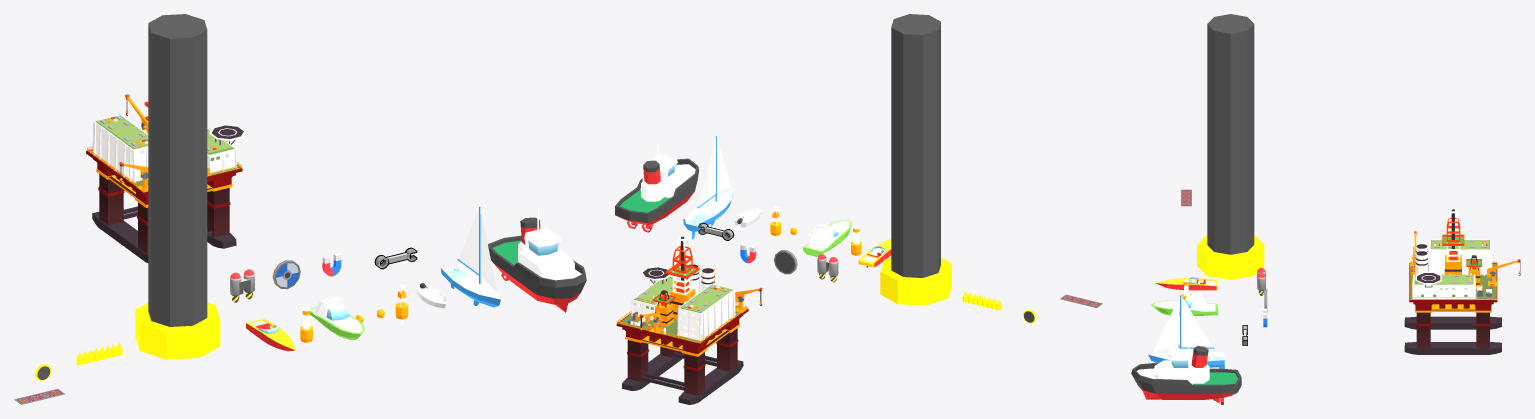
File: wrench-bouy-boats-oilrig.glb
3 renders of one model, left to right at view 1: azimuth 30°, elevation 25°; view 2: azimuth 150°, elevation 25°; view 3: azimuth 270°, elevation 25°, orthographic. The views are drawn at different scales.
Visible parts, largest first — view 1: crusher, Oil Rig Station, tugboat, sailboat, Yacht, speedboat, shield, jetpack, spike; view 2: crusher, Oil Rig Station, tugboat, sailboat, Yacht, speedboat, jetpack, shield; view 3: crusher, Oil Rig Station, tugboat, sailboat, Yacht, speedboat.
Boxes of the visible parts, box(x1,y1,x2,y2) form: crusher: box(135, 14, 220, 359); Oil Rig Station: box(86, 94, 246, 262); tugboat: box(488, 208, 586, 312); sailboat: box(440, 206, 500, 307); Yacht: box(310, 296, 364, 339); speedboat: box(246, 318, 294, 351); shield: box(272, 260, 300, 289); jetpack: box(230, 269, 254, 302); spike: box(76, 342, 122, 365); crusher: box(880, 14, 951, 305); Oil Rig Station: box(616, 236, 762, 404); tugboat: box(615, 144, 698, 232); sailboat: box(683, 136, 733, 239); Yacht: box(803, 220, 851, 256); speedboat: box(858, 239, 891, 267); jetpack: box(817, 254, 838, 282); shield: box(774, 250, 797, 274); crusher: box(1197, 14, 1264, 279); Oil Rig Station: box(1404, 209, 1520, 354); tugboat: box(1131, 335, 1241, 404); sailboat: box(1148, 295, 1224, 368); Yacht: box(1151, 292, 1218, 315); speedboat: box(1155, 276, 1217, 290).
Size of the model in its own units: 51.38 by 31.25 by 41.48.
9 materials, 8 textured.
